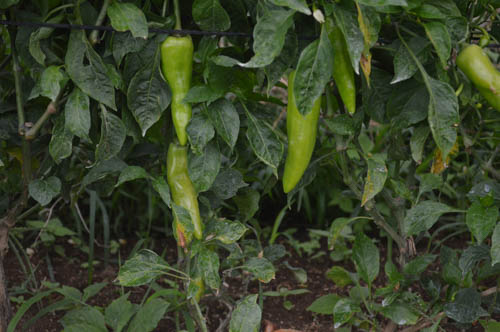ChiliPepper: (281, 67, 329, 198), (156, 135, 207, 242), (159, 31, 202, 147), (326, 23, 371, 119), (460, 39, 500, 103)
